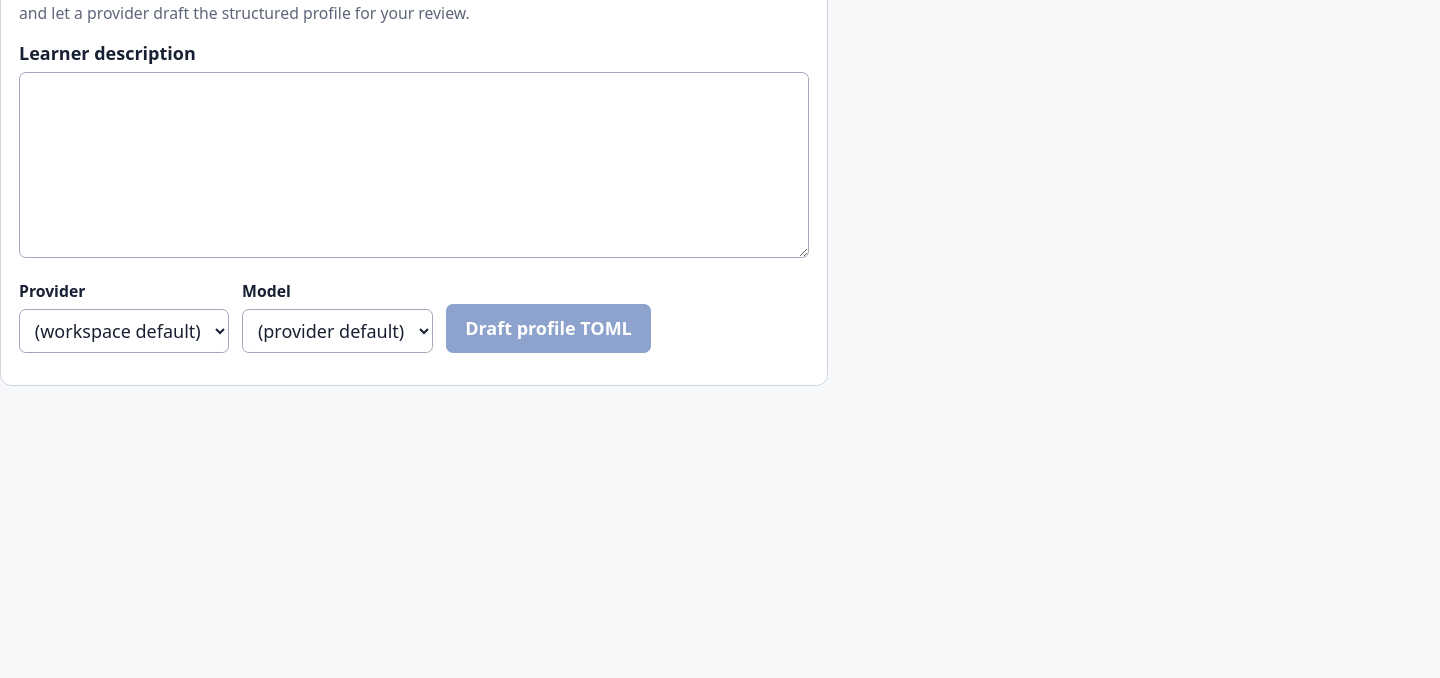
Test: ProfileDraftPanel › drafts TOML from a description and imports it after review
Type "A nurse returning to statistics." into the text box labelled "Learner description" at (414, 165), box [19, 72, 809, 258]
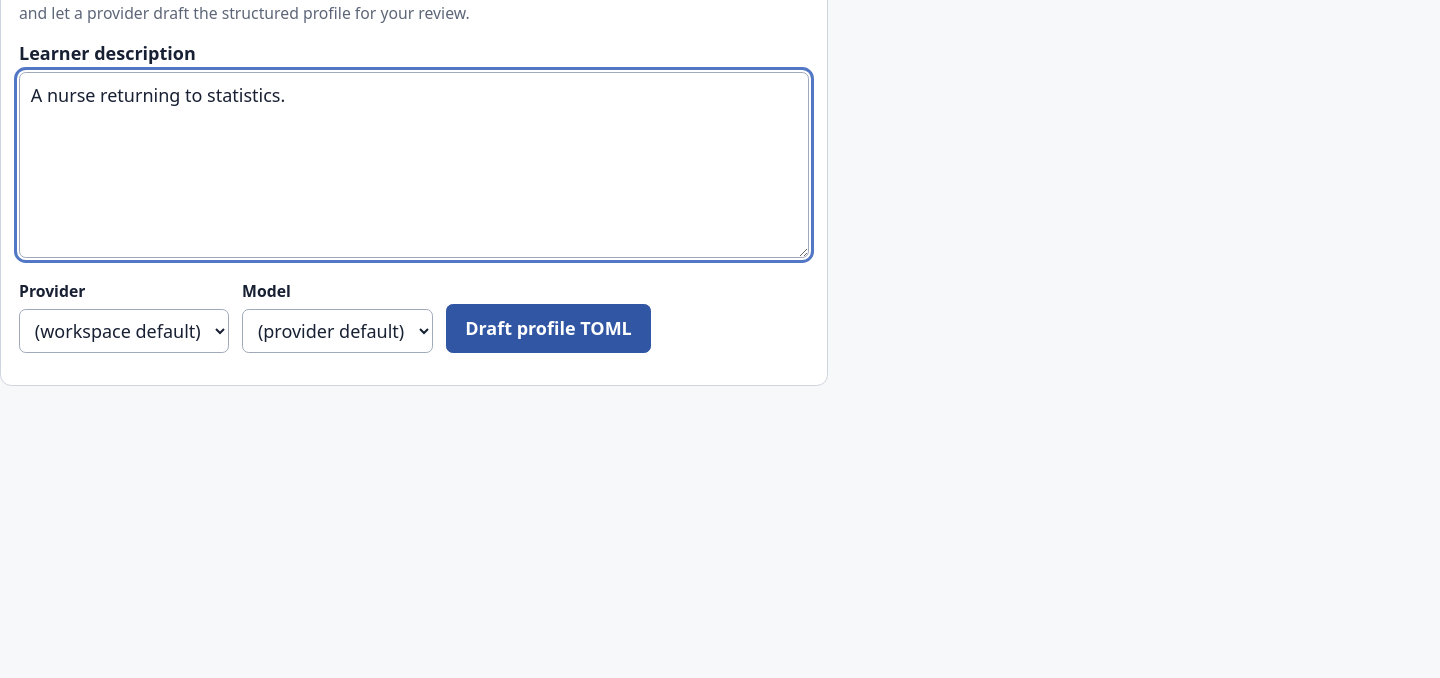
Select "claude-code" in the dropdown labelled "Provider" at (124, 331), box [19, 309, 229, 353]
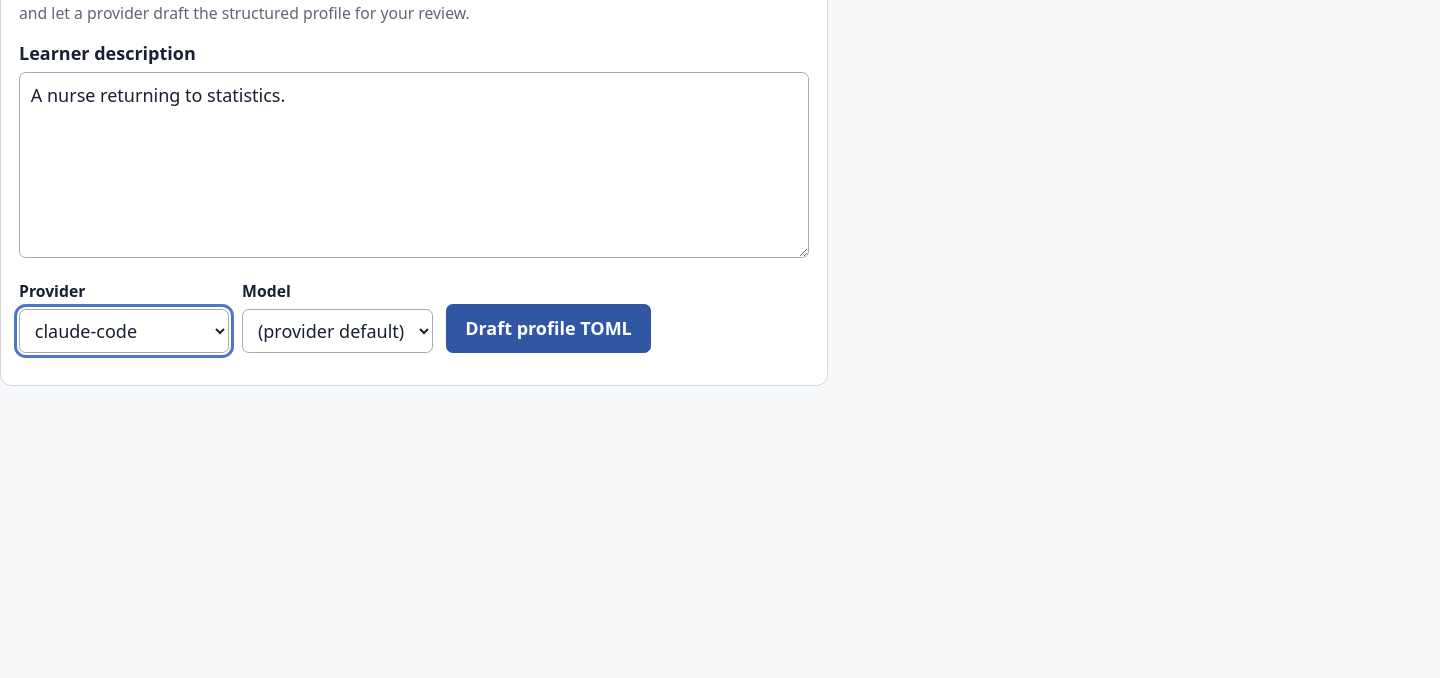
Select "Sonnet" in the dropdown labelled "Model" at (337, 331), box [242, 309, 433, 353]
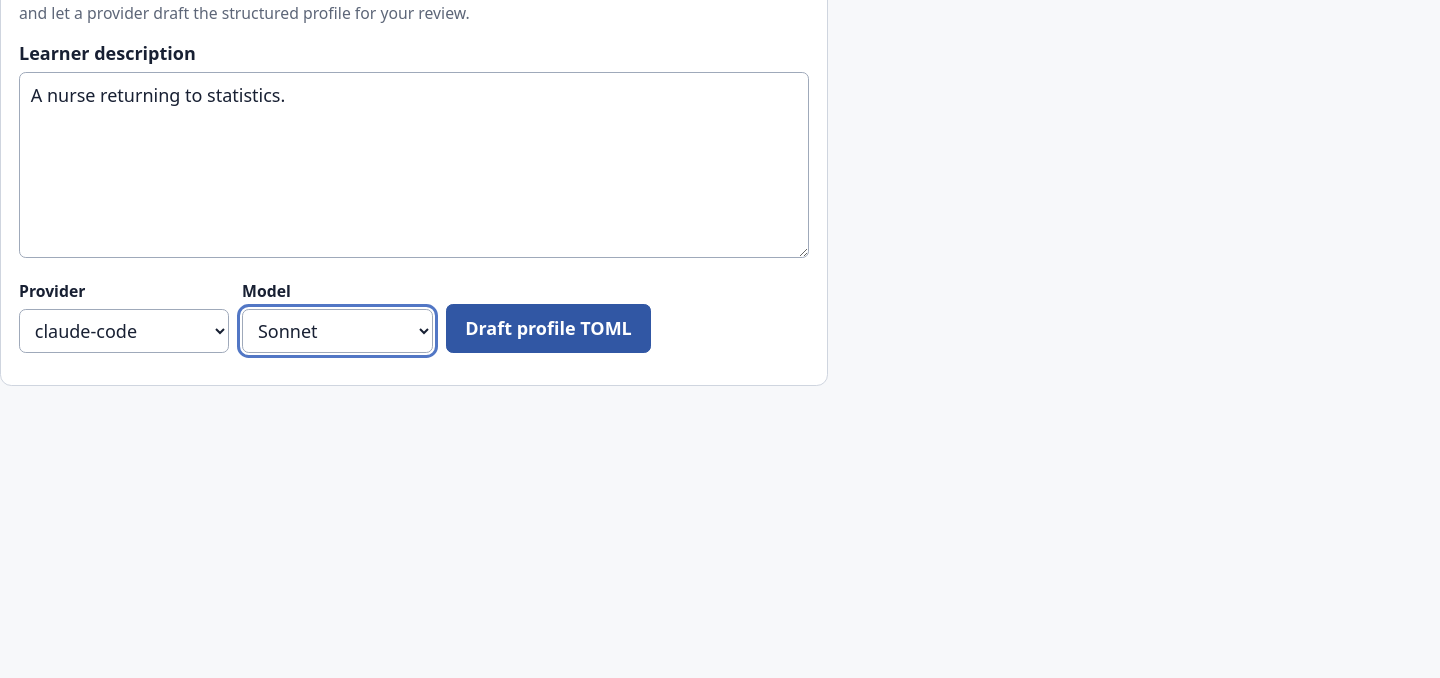
Click the button "Draft profile TOML" at (548, 329), box [446, 304, 651, 353]
(page scrolled)
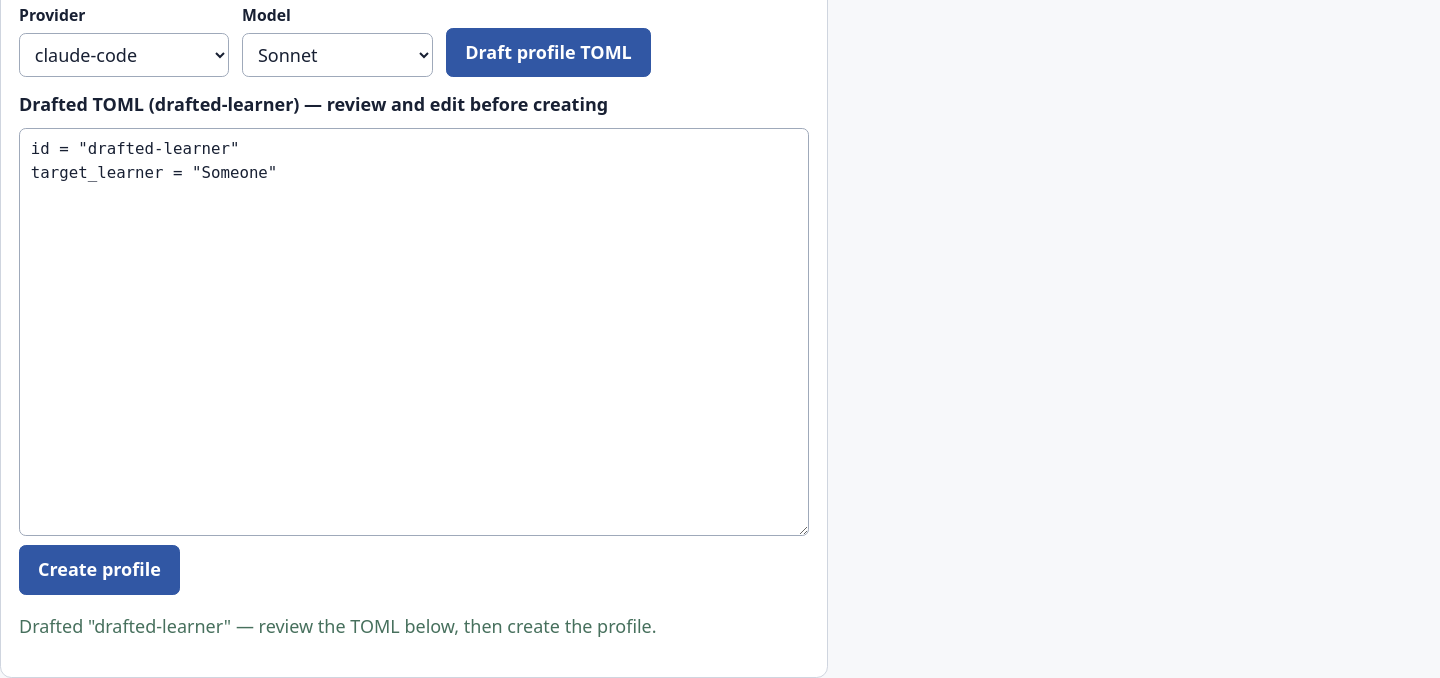
Click the button "Create profile" at (99, 570), box [19, 546, 180, 595]
(page scrolled)
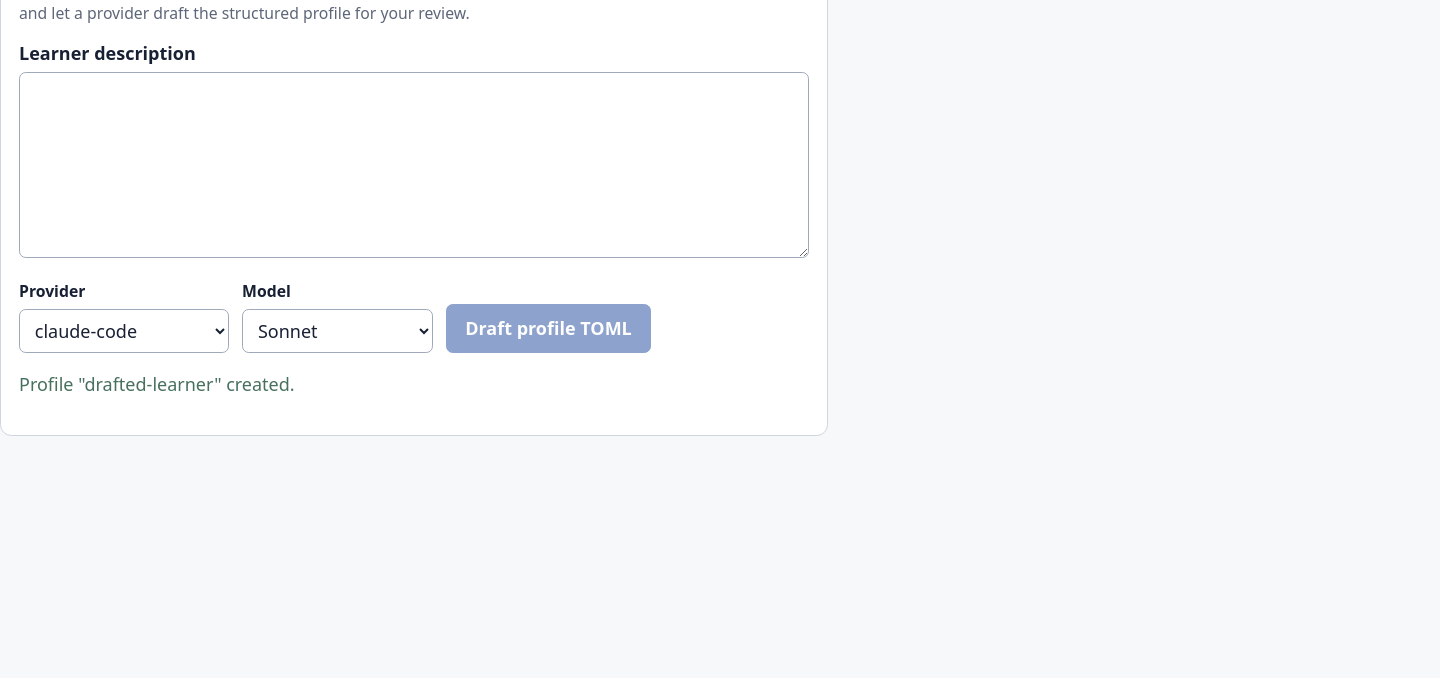
Expected: the text "Profile \"drafted-learner\" created." is shown, [19, 372, 295, 396]
